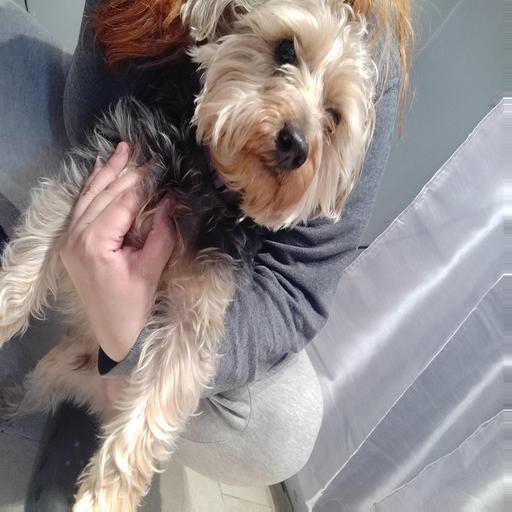dog: (192, 1, 427, 236)
